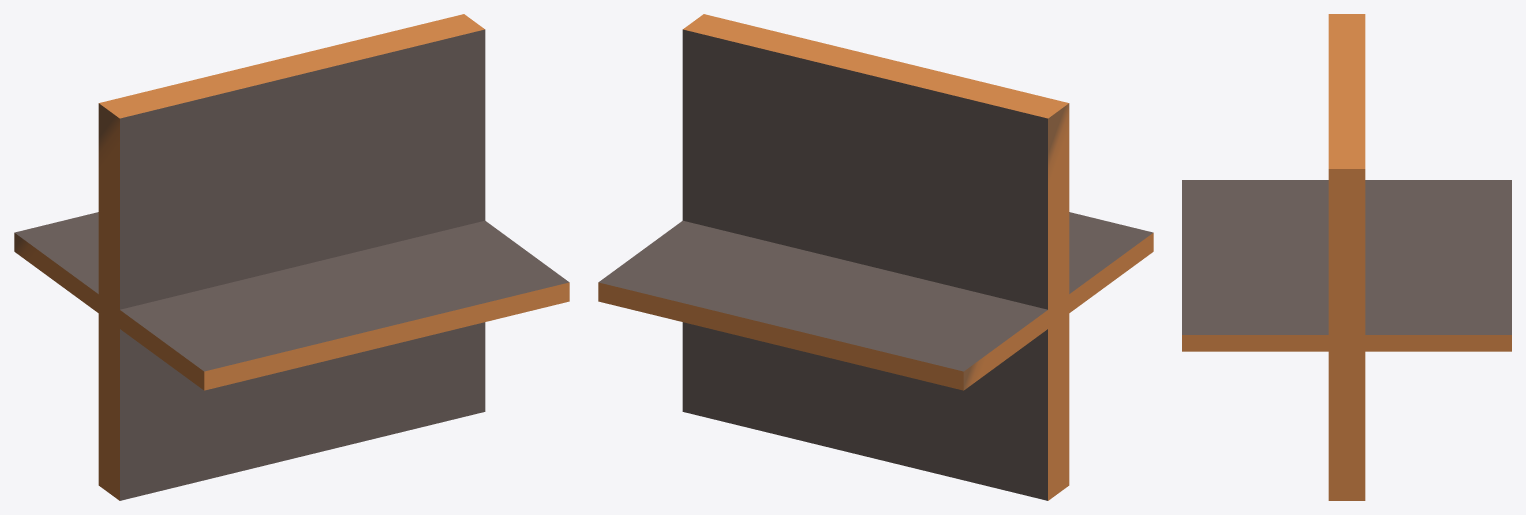
File: Office_Cubicle.fbx
The picture shows the model from 3 angles, left to right: view 1: azimuth 30°, elevation 25°; view 2: azimuth 150°, elevation 25°; view 3: azimuth 270°, elevation 25°; orthographic projection. The views are drawn at different scales.
Parts seen in each view (by area): view 1: Plane; view 2: Plane; view 3: Plane.
Part boxes in pixels (bbox=[...]): Plane: bbox=[14, 14, 569, 500]; Plane: bbox=[598, 14, 1153, 500]; Plane: bbox=[1182, 14, 1511, 500].
Size of the model in its own units: 2 by 2 by 1.8.
